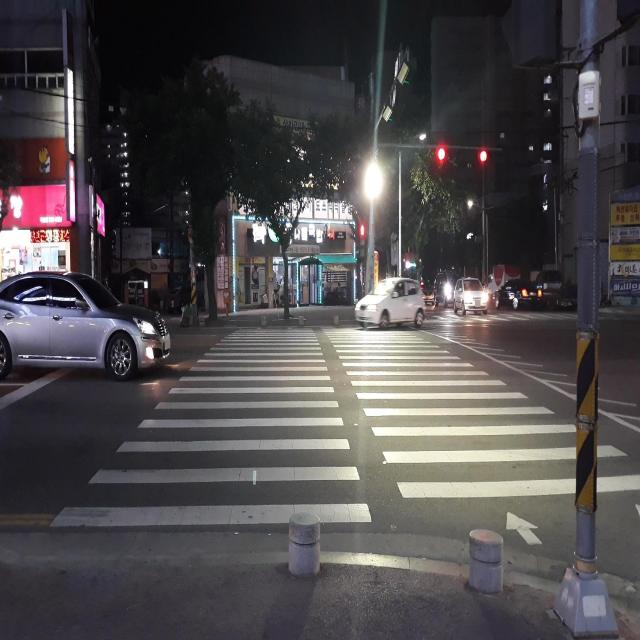빨간불: (360, 224, 368, 256)
횡단보도: (47, 324, 640, 550)
